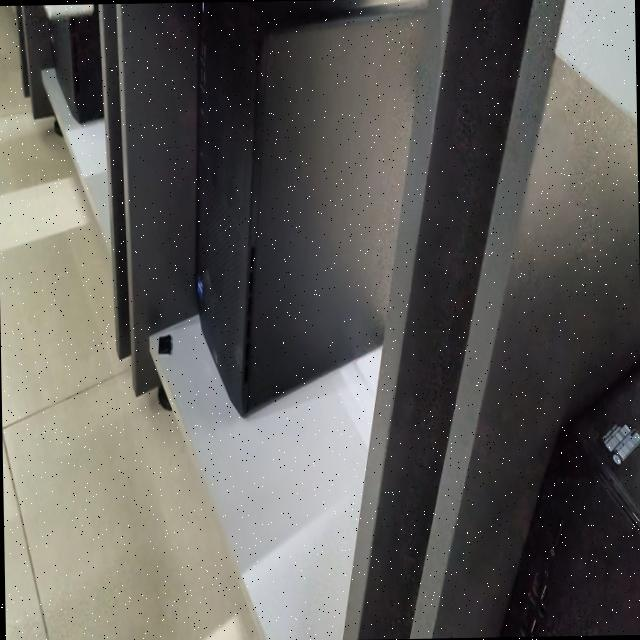Cpu: (196, 0, 427, 415), (499, 365, 640, 637), (52, 14, 103, 123)
